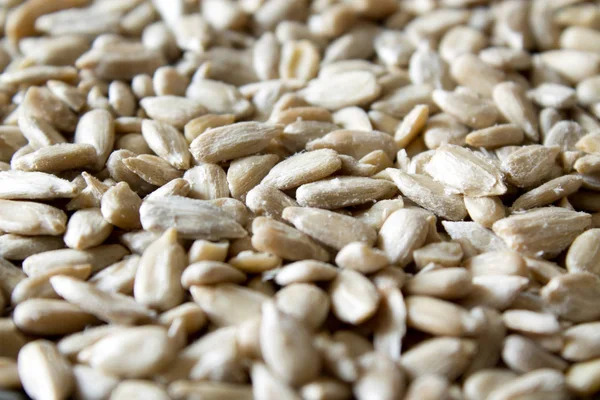seed: (1, 72, 600, 346)
